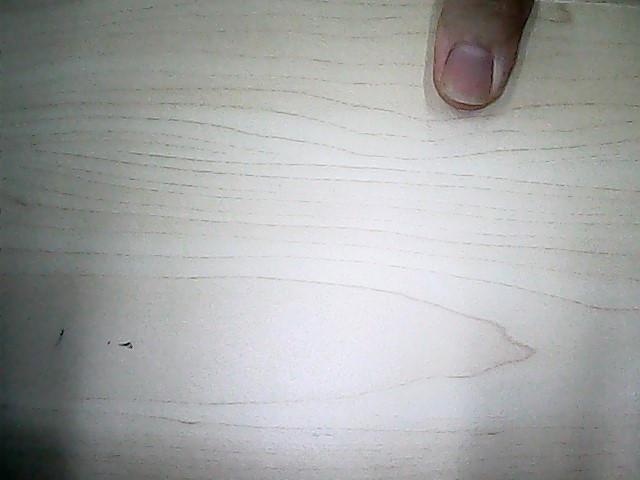nail: (443, 41, 491, 109)
